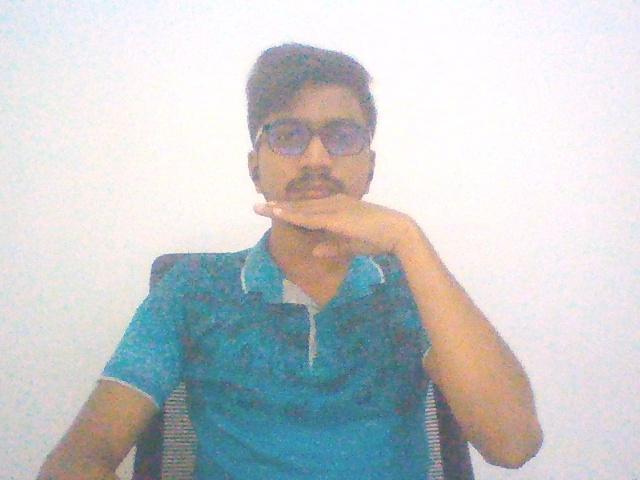elephant: (238, 173, 445, 282)
